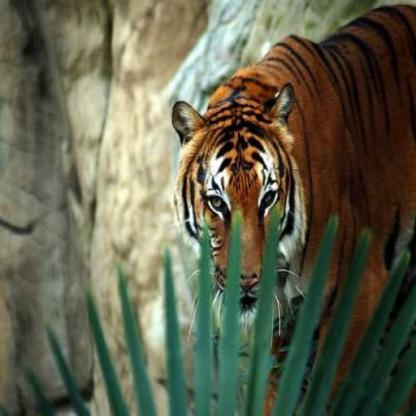Tiger: (143, 0, 415, 339)
